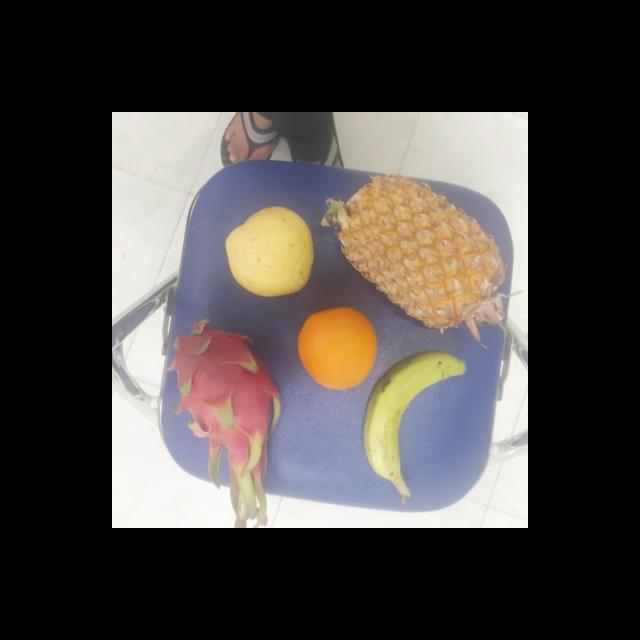banana: (366, 350, 459, 492)
orange: (296, 309, 380, 391)
pear: (224, 209, 318, 300)
pineapple: (329, 176, 513, 333)
pitaya: (164, 326, 286, 484)
